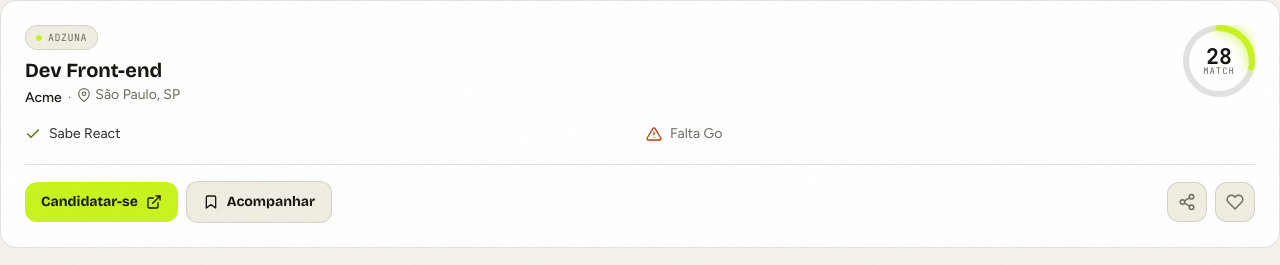
Test: JobCard › acompanhar salva a vaga no tracker local e reflete o estado
Click the button "Acompanhar" at (259, 202), box top-left (186, 181), bottom-right (332, 223)
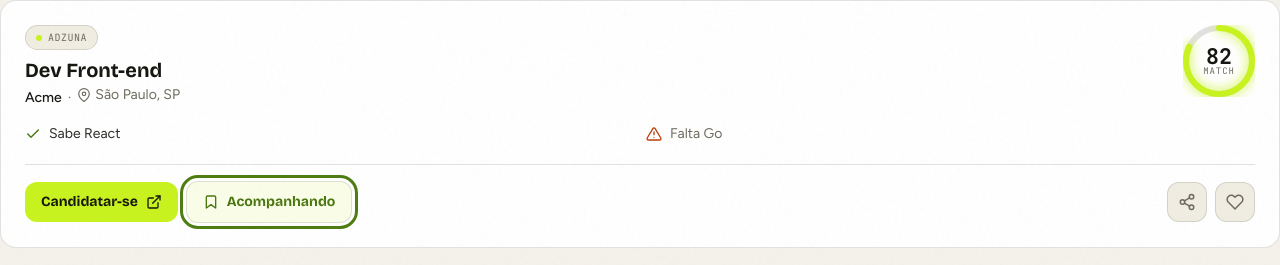
Check: the button "Acompanhando" is shown, box top-left (186, 181), bottom-right (352, 223)
